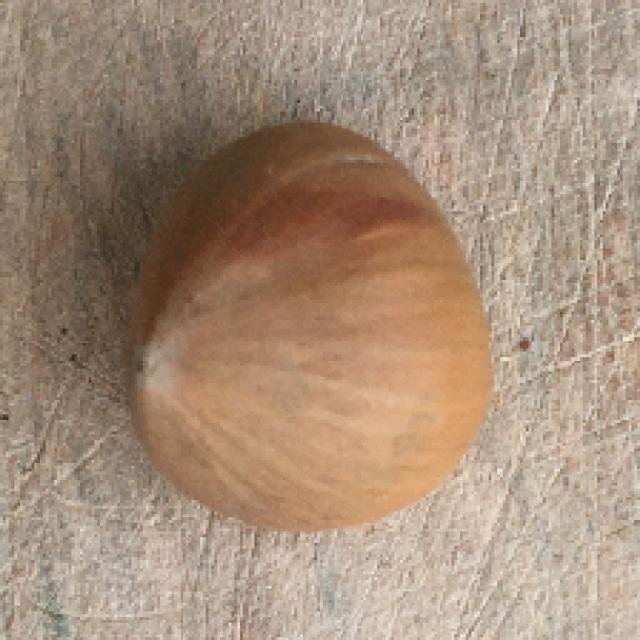DamagedHazelnut: (125, 120, 499, 533)
